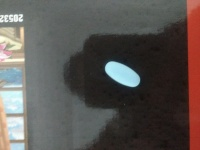Apranax: (103, 59, 142, 89)
